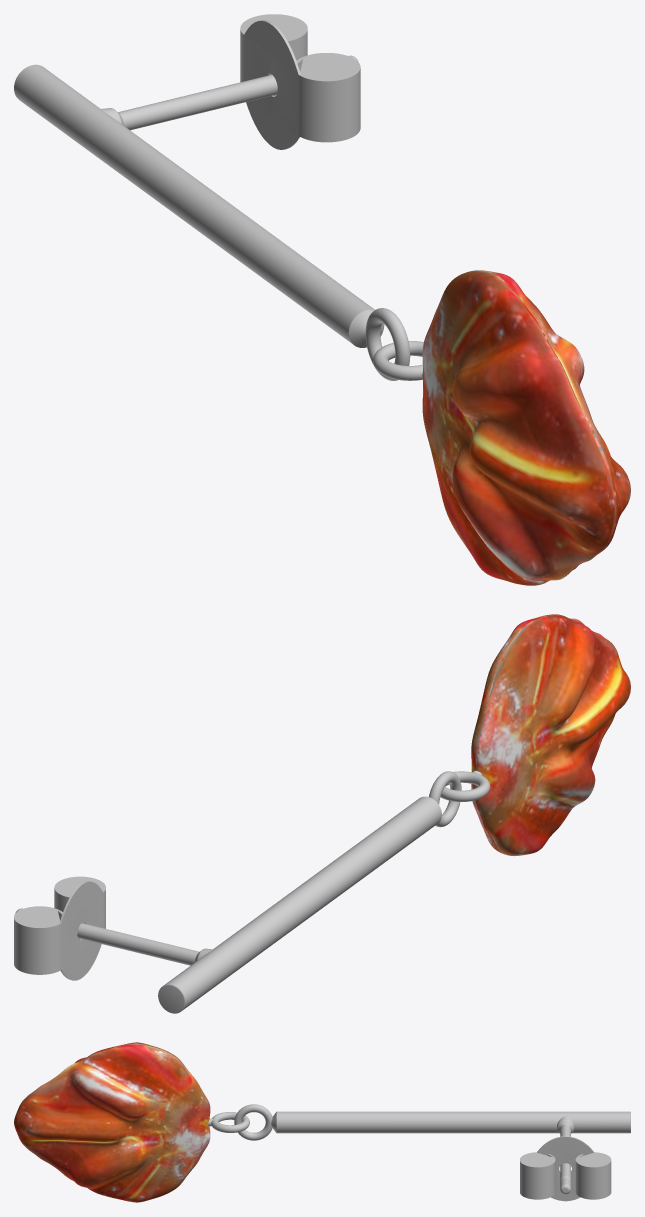
3 renders of one model, top to bottom at view 1: azimuth 30°, elevation 25°; view 2: azimuth 150°, elevation 25°; view 3: azimuth 270°, elevation 25°, orthographic. The views are drawn at different scales.
Visible parts, largest first — view 1: bijou; view 2: bijou; view 3: bijou.
Boxes of the visible parts, x1,y1,x2,y2 form: bijou: (14,14,630,585); bijou: (14,614,630,1013); bijou: (14,1042,630,1202).
Size of the model in its own units: 4.98 by 4.46 by 15.91.
